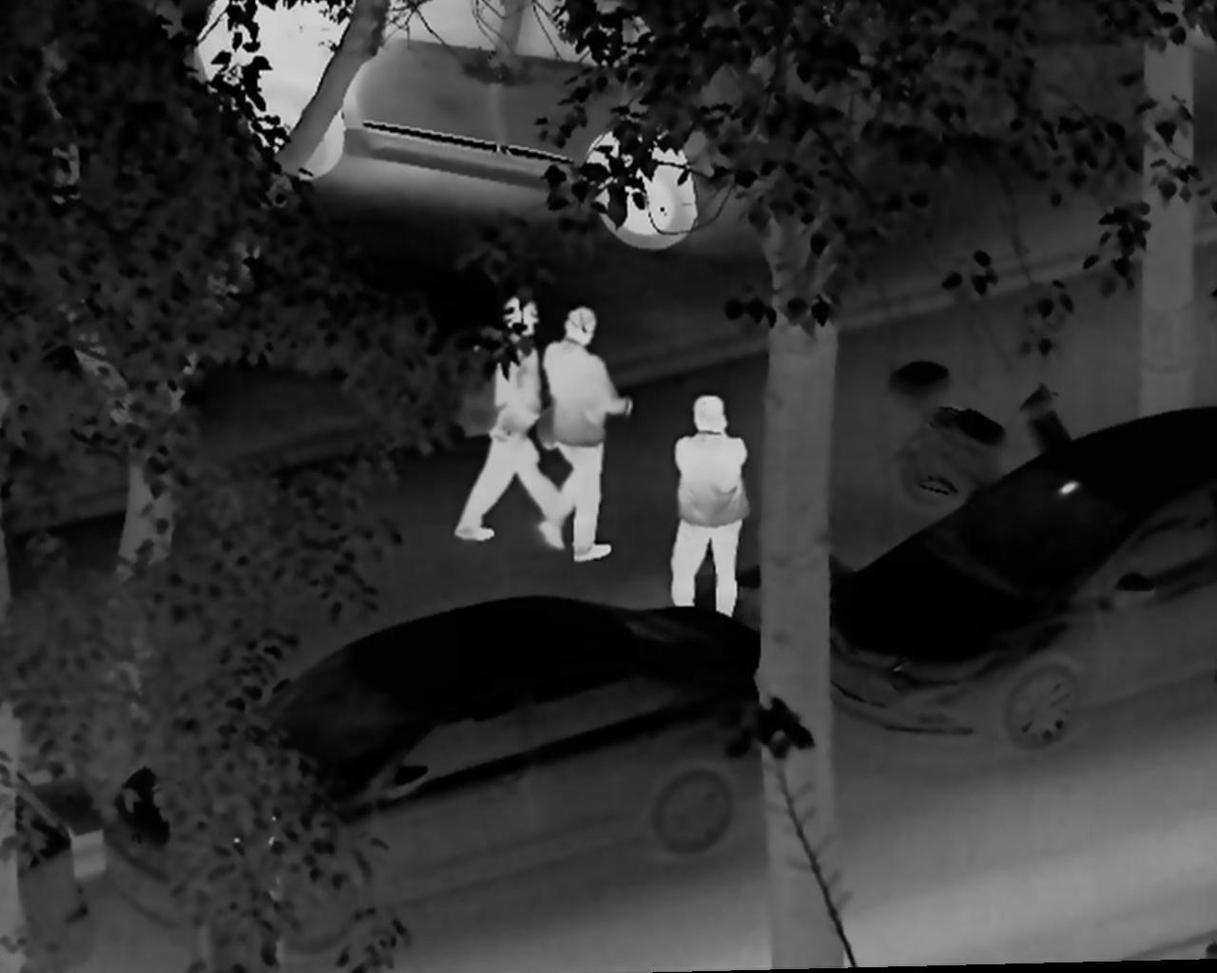person: (450, 293, 579, 542), (534, 303, 633, 565), (669, 390, 752, 620)
